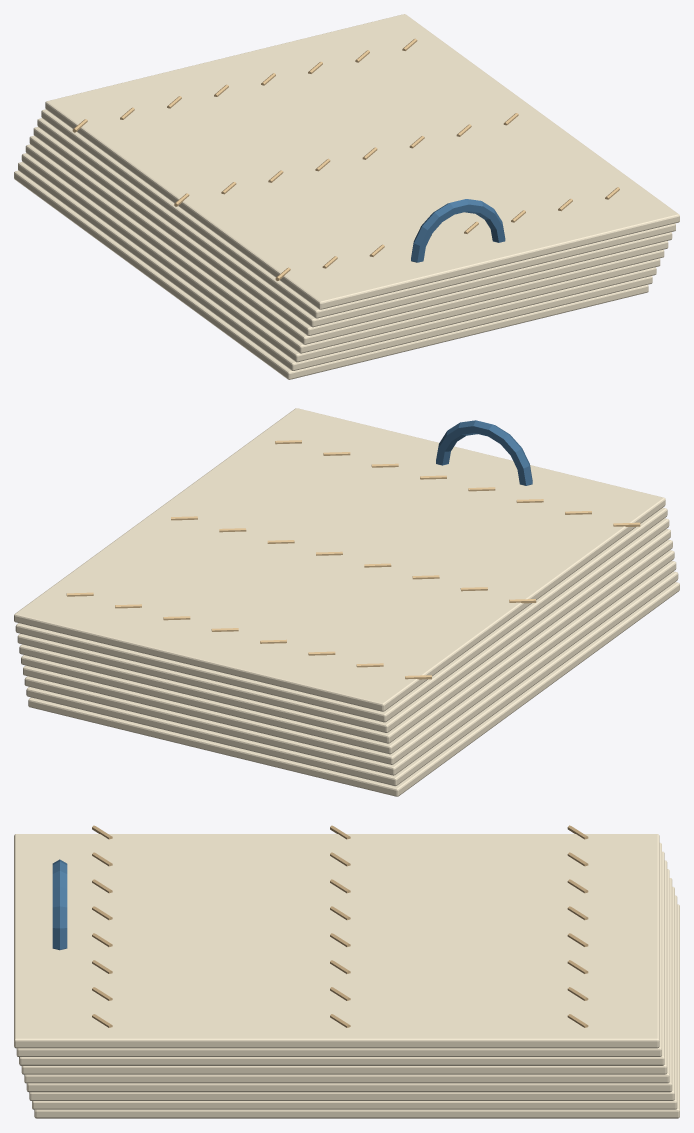
Rendered from writing_washi.glb.
3 renders of one model, top to bottom at view 1: azimuth 30°, elevation 25°; view 2: azimuth 150°, elevation 25°; view 3: azimuth 270°, elevation 25°, orthographic. The views are drawn at different scales.
Visible parts, largest first — view 1: Stack of deckled washi sheets.008, Stack of deckled washi sheets.003, Stack of deckled washi sheets.002, Stack of deckled washi sheets.006, Stack of deckled washi sheets.004, Stack of deckled washi sheets.005, Stack of deckled washi sheets, Stack of deckled washi sheets.001, Stack of deckled washi sheets.007, Paper-maker woven seal; view 2: Stack of deckled washi sheets.008, Stack of deckled washi sheets.002, Stack of deckled washi sheets.001, Stack of deckled washi sheets.006, Stack of deckled washi sheets.004, Stack of deckled washi sheets.005, Stack of deckled washi sheets, Stack of deckled washi sheets.003, Stack of deckled washi sheets.007, Paper-maker woven seal; view 3: Stack of deckled washi sheets.008, Stack of deckled washi sheets.003, Stack of deckled washi sheets, Stack of deckled washi sheets.004, Stack of deckled washi sheets.005, Stack of deckled washi sheets.001, Stack of deckled washi sheets.002, Stack of deckled washi sheets.006, Stack of deckled washi sheets.007, Paper-maker woven seal.
Part boxes in pixels (<box>): Stack of deckled washi sheets.008: <box>45,14,679,309</box>; Stack of deckled washi sheets.003: <box>25,144,660,353</box>; Stack of deckled washi sheets.002: <box>21,153,656,362</box>; Stack of deckled washi sheets.006: <box>37,118,672,327</box>; Stack of deckled washi sheets.004: <box>29,135,664,344</box>; Stack of deckled washi sheets.005: <box>33,127,668,335</box>; Stack of deckled washi sheets: <box>14,170,648,379</box>; Stack of deckled washi sheets.001: <box>18,162,652,370</box>; Stack of deckled washi sheets.007: <box>41,109,675,318</box>; Paper-maker woven seal: <box>411,199,505,262</box>; Stack of deckled washi sheets.008: <box>14,408,665,711</box>; Stack of deckled washi sheets.002: <box>24,561,676,775</box>; Stack of deckled washi sheets.001: <box>26,571,678,786</box>; Stack of deckled washi sheets.006: <box>17,518,669,732</box>; Stack of deckled washi sheets.004: <box>21,539,672,754</box>; Stack of deckled washi sheets.005: <box>19,529,670,743</box>; Stack of deckled washi sheets: <box>28,582,679,796</box>; Stack of deckled washi sheets.003: <box>23,550,674,764</box>; Stack of deckled washi sheets.007: <box>15,507,667,722</box>; Paper-maker woven seal: <box>436,420,532,485</box>; Stack of deckled washi sheets.008: <box>14,834,659,1048</box>; Stack of deckled washi sheets.003: <box>26,878,672,1092</box>; Stack of deckled washi sheets: <box>34,904,679,1118</box>; Stack of deckled washi sheets.004: <box>24,869,669,1083</box>; Stack of deckled washi sheets.005: <box>21,860,667,1074</box>; Stack of deckled washi sheets.001: <box>32,895,677,1109</box>; Stack of deckled washi sheets.002: <box>29,886,674,1100</box>; Stack of deckled washi sheets.006: <box>19,851,664,1065</box>; Stack of deckled washi sheets.007: <box>16,843,661,1056</box>; Paper-maker woven seal: <box>52,859,67,950</box>.
Size of the model in its own units: 1.52 by 0.4853 by 1.95.
